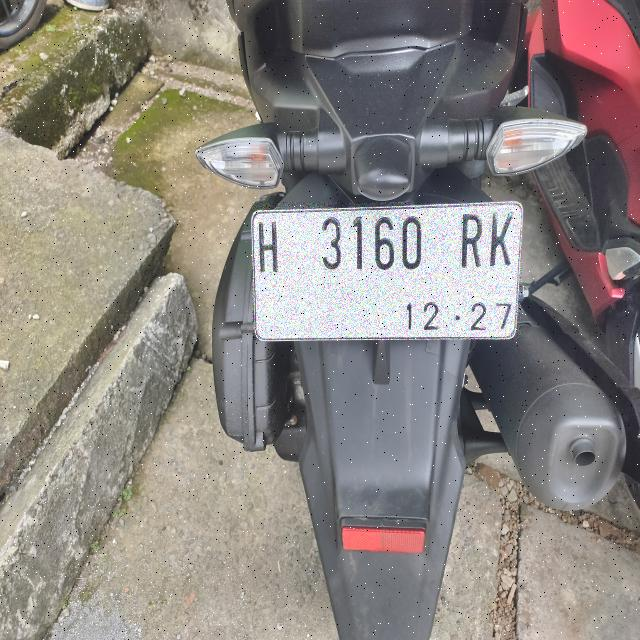plate: (252, 203, 521, 339)
